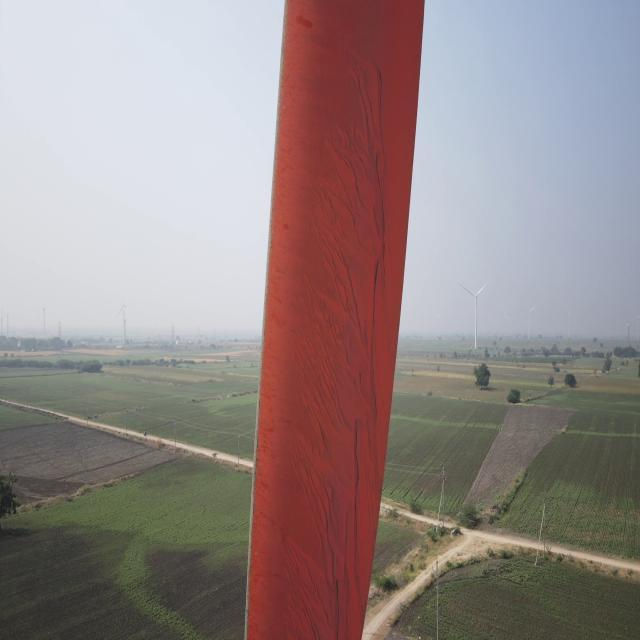Dirt: (250, 0, 389, 640)
